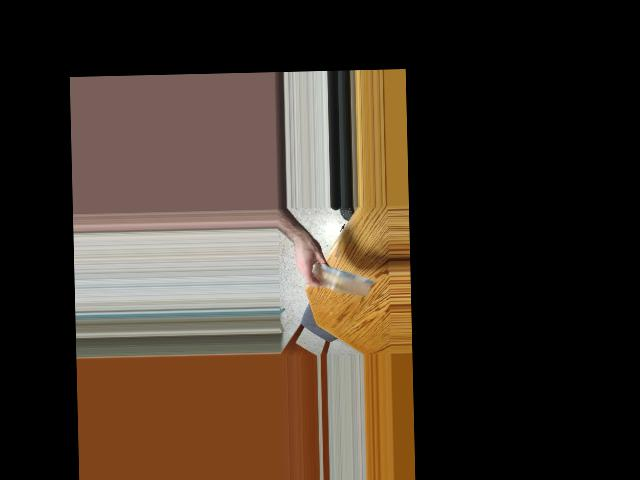cheese: (306, 268, 374, 294)
